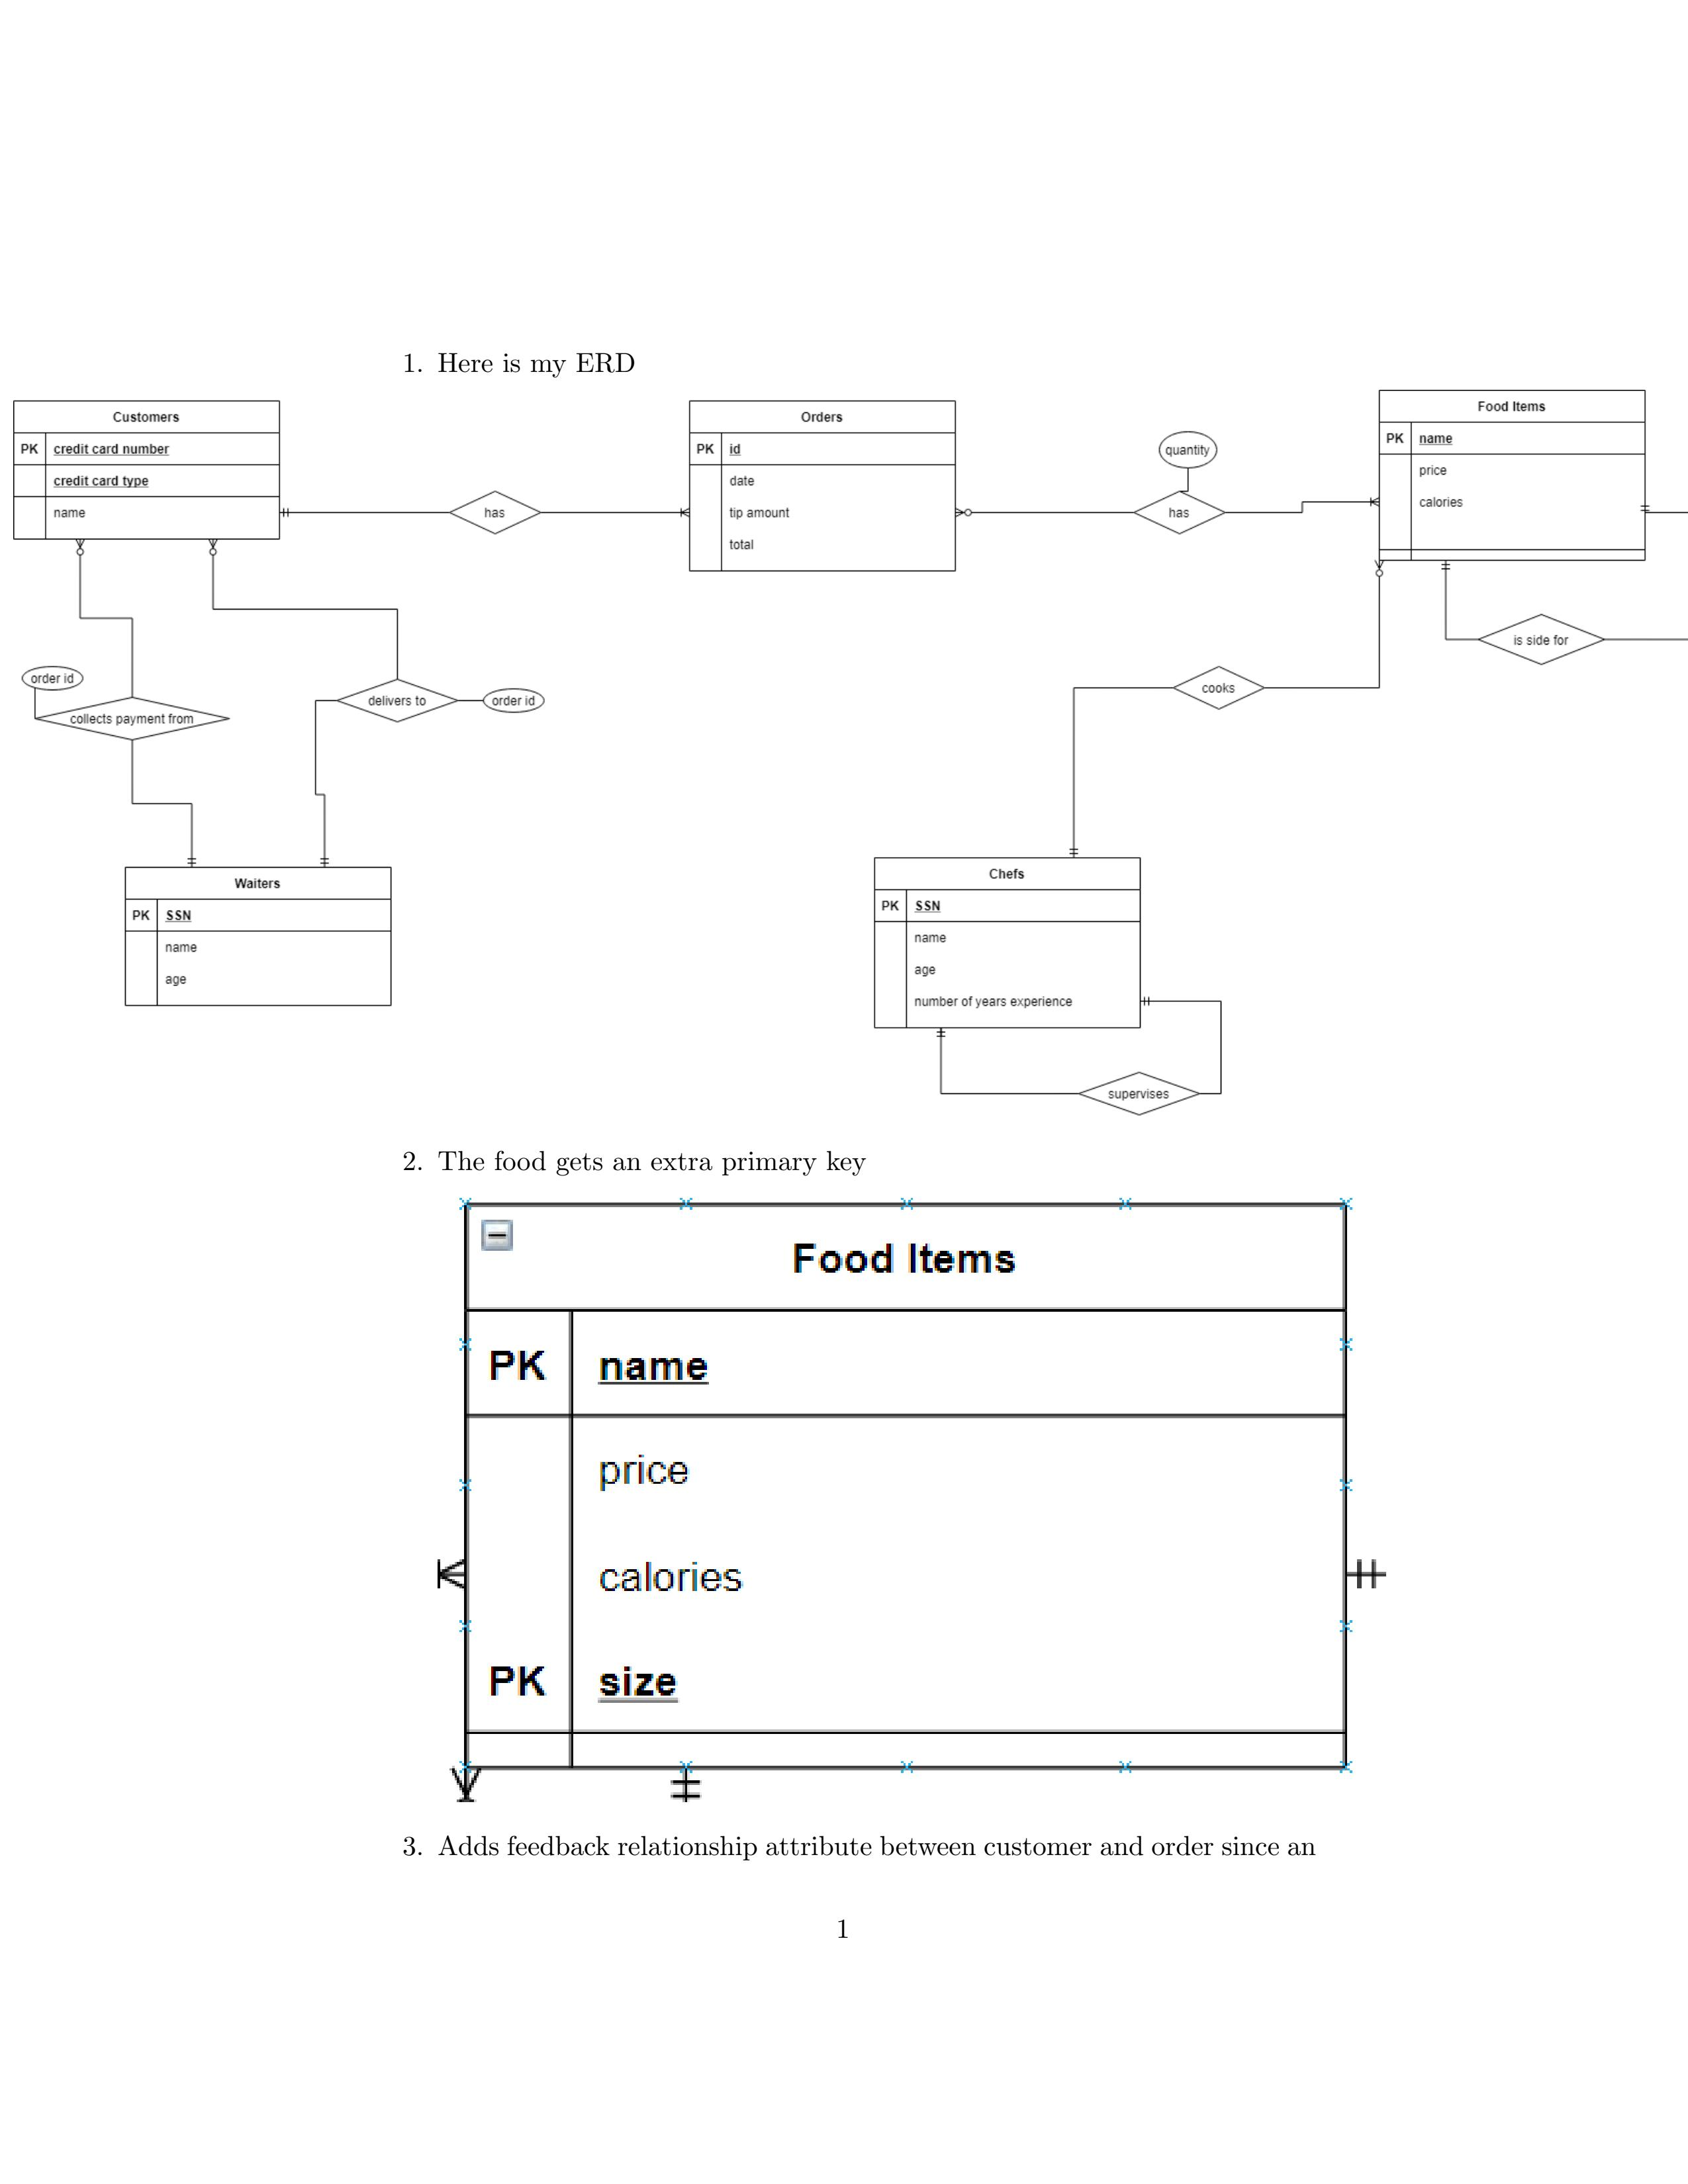Attribute: (1158, 431, 1218, 470), (21, 665, 83, 691), (482, 688, 546, 713)
Entity: (463, 1200, 1351, 1775), (688, 399, 956, 573), (872, 856, 1142, 1028), (1379, 390, 1647, 562), (12, 399, 282, 541), (124, 865, 392, 1007)
Relationship: (35, 697, 231, 741), (1479, 613, 1605, 665), (1078, 1071, 1199, 1115), (337, 679, 457, 721), (449, 491, 541, 535), (1174, 665, 1264, 709), (1133, 493, 1225, 535)
